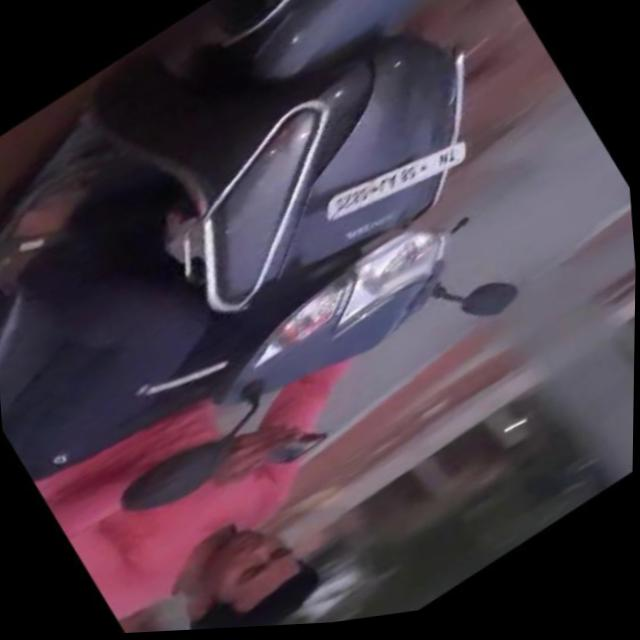USING_MOBILE: (104, 396, 409, 635)
